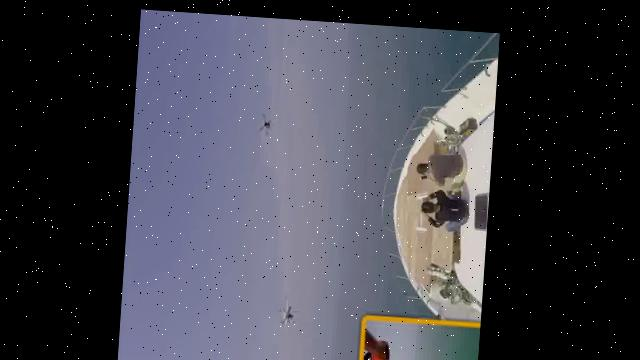drone: (275, 287, 309, 329), (250, 105, 277, 137)
